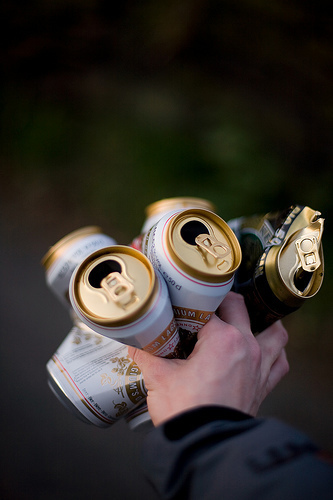litter: (40, 226, 158, 430), (144, 200, 324, 322)
